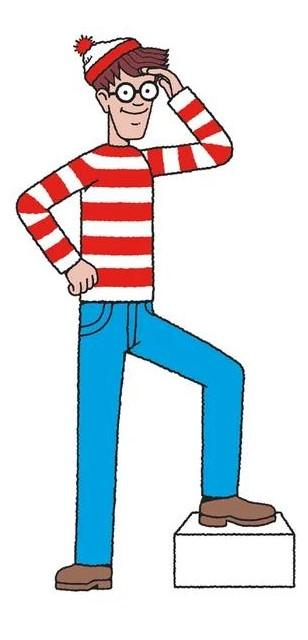waldos: (13, 34, 278, 593)
